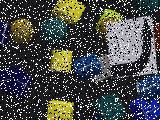Left: (106, 15, 158, 79)
